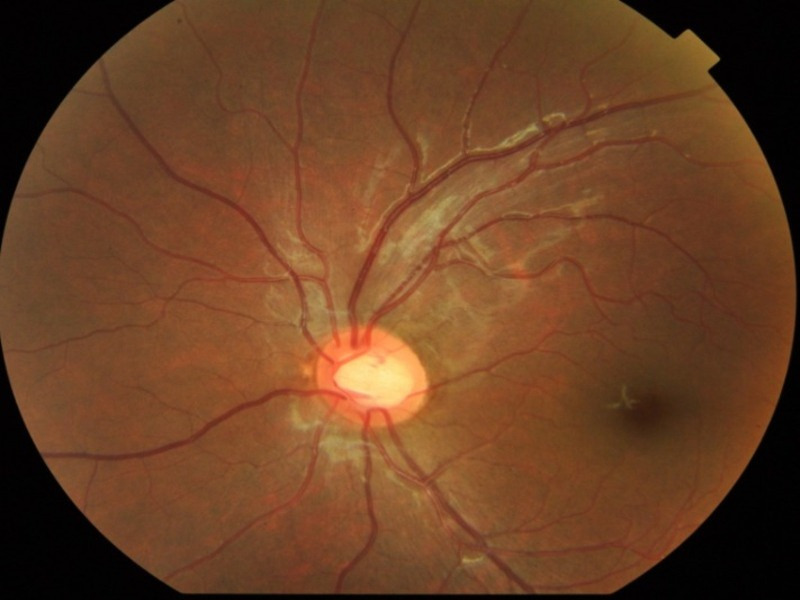Optic Cup: (332, 356, 412, 405)
Optic Disc: (313, 325, 432, 429)
